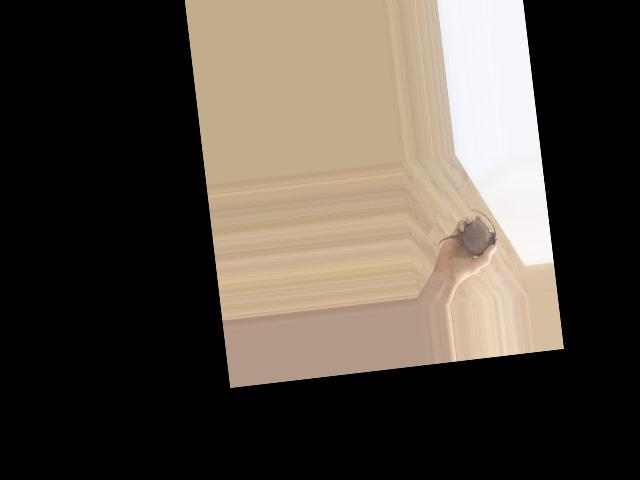beet: (434, 206, 499, 260)
